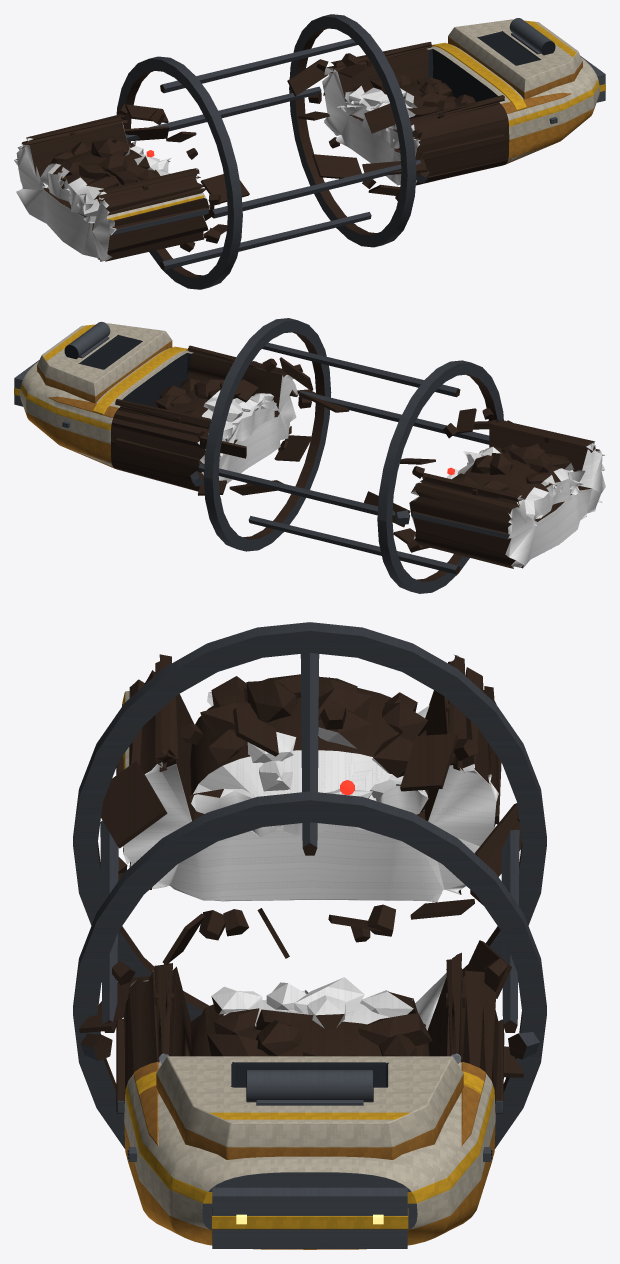
Rendered from wreck_ore_freighter_bow__fresh.glb.
The picture shows the model from 3 angles, top to bottom: view 1: azimuth 30°, elevation 25°; view 2: azimuth 150°, elevation 25°; view 3: azimuth 270°, elevation 25°; orthographic projection. The views are drawn at different scales.
Visible parts, largest first — view 1: Hull.001, Hull, GapRing1, GapRing0, Forecastle, H2Heap, GapChord3, GapChord2, GapChord1, GapChord0, PipeRun_M, H0Heap.001 (+17 smaller); view 2: Hull.001, Hull, GapRing1, GapRing0, Forecastle, H2Heap, GapChord3, GapChord2, H0Heap.001, GapChord0, GapChord1, PipeRun (+12 smaller); view 3: Hull.001, Hull, GapRing0, GapRing1, Forecastle, BowFender, H2Heap, Windlass, H0Heap.001, woundFore_t_tear3, GapChord2, woundFore_t_tear1 (+31 smaller).
Part boxes in pixels (bbox=[...]): Hull.001: bbox=[322, 42, 599, 185]; Hull: bbox=[16, 122, 209, 261]; GapRing1: bbox=[289, 14, 416, 247]; GapRing0: bbox=[116, 56, 242, 289]; Forecastle: bbox=[448, 19, 582, 99]; H2Heap: bbox=[38, 149, 170, 223]; GapChord3: bbox=[160, 212, 371, 270]; GapChord2: bbox=[160, 39, 357, 93]; GapChord1: bbox=[210, 160, 420, 218]; GapChord0: bbox=[126, 86, 321, 141]; PipeRun_M: bbox=[98, 168, 200, 199]; H0Heap.001: bbox=[337, 82, 456, 149]; Hull.001: bbox=[20, 346, 298, 491]; Hull: bbox=[409, 425, 605, 568]; GapRing1: bbox=[203, 318, 331, 551]; GapRing0: bbox=[377, 360, 503, 593]; Forecastle: bbox=[37, 323, 172, 403]; H2Heap: bbox=[457, 452, 582, 525]; GapChord3: bbox=[248, 516, 460, 574]; GapChord2: bbox=[262, 343, 460, 397]; H0Heap.001: bbox=[166, 390, 280, 456]; GapChord0: bbox=[198, 464, 409, 519]; GapChord1: bbox=[298, 390, 489, 444]; PipeRun: bbox=[420, 473, 524, 504]; Hull.001: bbox=[123, 966, 498, 1249]; Hull: bbox=[122, 667, 498, 902]; GapRing0: bbox=[73, 622, 546, 1021]; GapRing1: bbox=[73, 791, 546, 1148]; Forecastle: bbox=[156, 1056, 463, 1159]; BowFender: bbox=[211, 1187, 408, 1248]; H2Heap: bbox=[190, 687, 428, 837]; Windlass: bbox=[246, 1070, 373, 1102]; H0Heap.001: bbox=[190, 999, 429, 1056]; woundFore_t_tear3: bbox=[101, 761, 167, 848]; GapChord2: bbox=[300, 653, 319, 855]; woundFore_t_tear1: bbox=[400, 733, 458, 791].
Size of the model in its own units: 179 by 70.12 by 70.12.
Materials: 15 (13 with a texture image).
